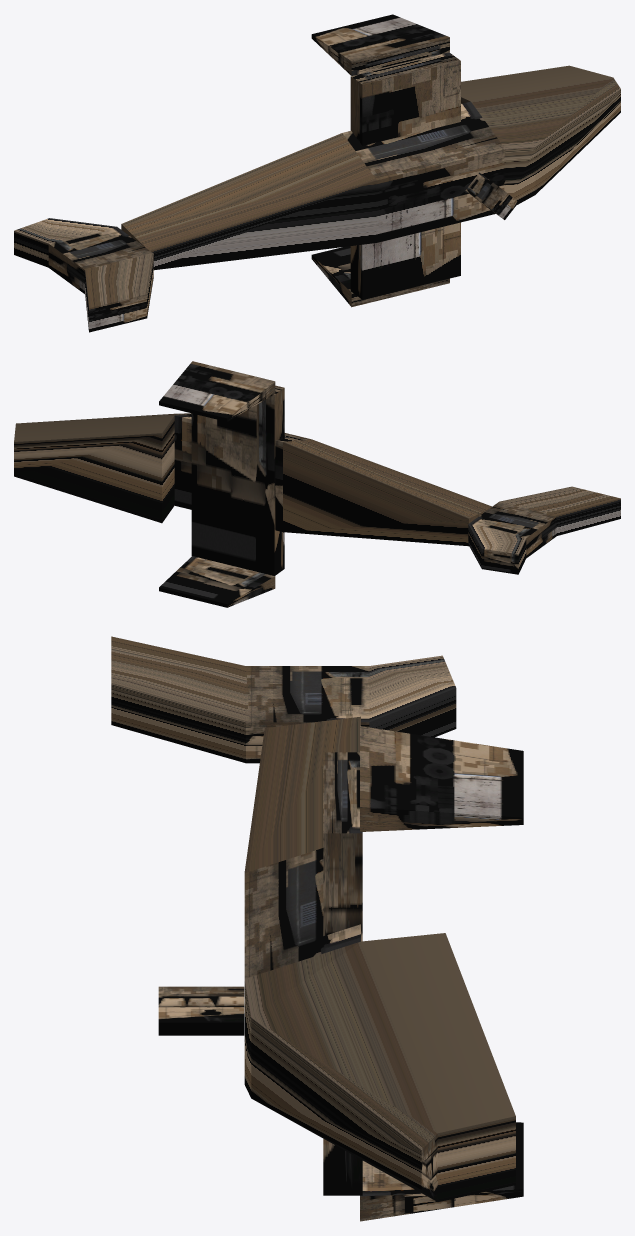
Rendered from veh_t6_drone_supply_LOD1.obj.
3 views of the same model, one above another, from view 1: azimuth 30°, elevation 25°; view 2: azimuth 150°, elevation 25°; view 3: azimuth 270°, elevation 25° (orthographic). The views are drawn at different scales.
Visible parts, largest first — view 1: mtl_veh_t6_drone_supply; view 2: mtl_veh_t6_drone_supply; view 3: mtl_veh_t6_drone_supply.
Boxes of the visible parts, <box> form: mtl_veh_t6_drone_supply: <box>14,14,620,332</box>; mtl_veh_t6_drone_supply: <box>14,361,620,607</box>; mtl_veh_t6_drone_supply: <box>111,636,523,1221</box>.
Size of the model in its own units: 563 by 212 by 191.
